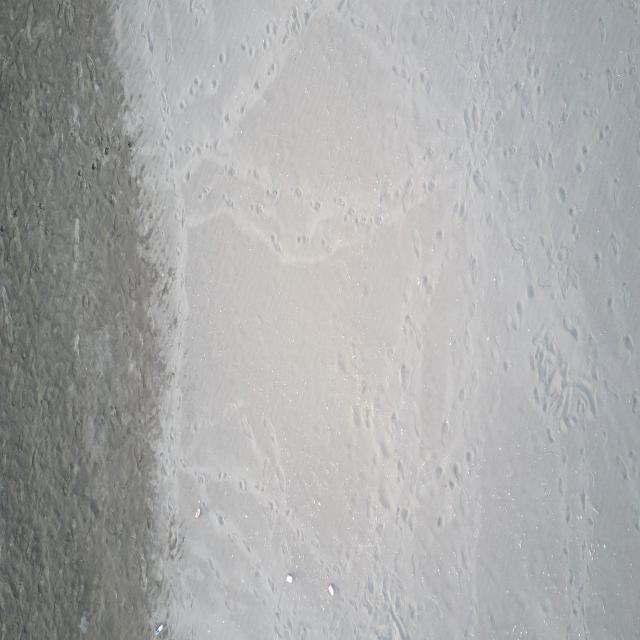Garbage: (154, 623, 164, 635), (192, 507, 200, 517), (284, 573, 292, 583), (327, 584, 332, 595)
